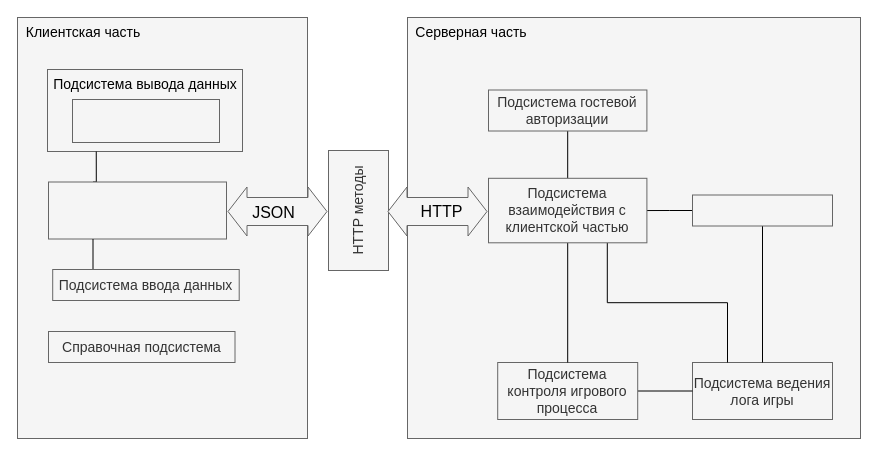
Some shapes in this 878 by 456 pixel diagram are drawn without their labels. The shapes that lost their labels are listed below. From the top down, each one's box as (x1, y1, x2, y2) in pixels, then its label:
(72, 98, 220, 142): Подсистема визуализации
(48, 181, 226, 239): Подсистема взаимодействия с серверной частью
(692, 194, 832, 226): Подсистема "Банк"
